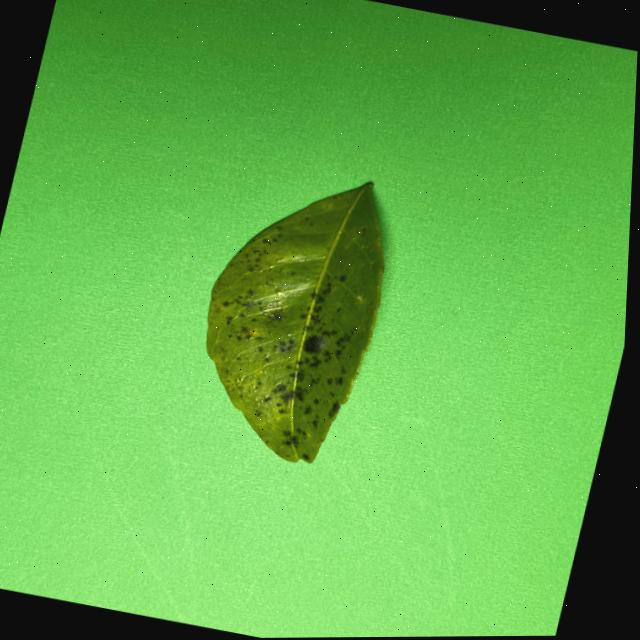sooty_mold: (207, 184, 383, 463)
